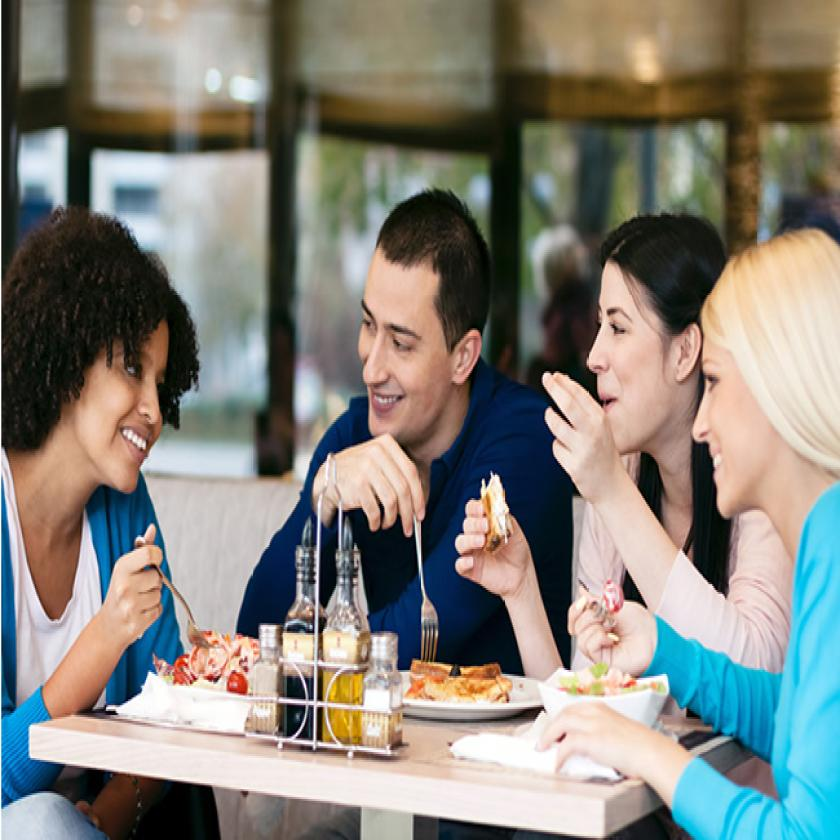Sin_casco: (0, 203, 198, 522), (696, 216, 835, 531), (348, 179, 499, 466), (580, 174, 721, 458)
